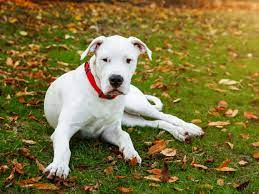dog: (40, 29, 209, 179)
